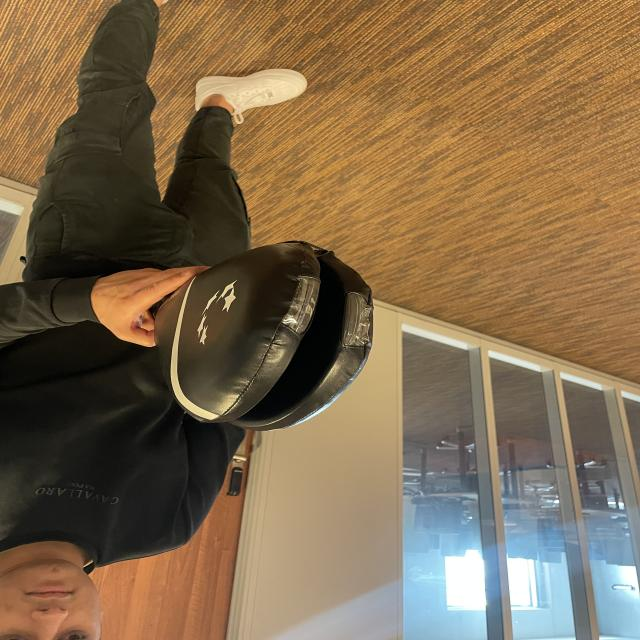paddle: (158, 247, 374, 427)
